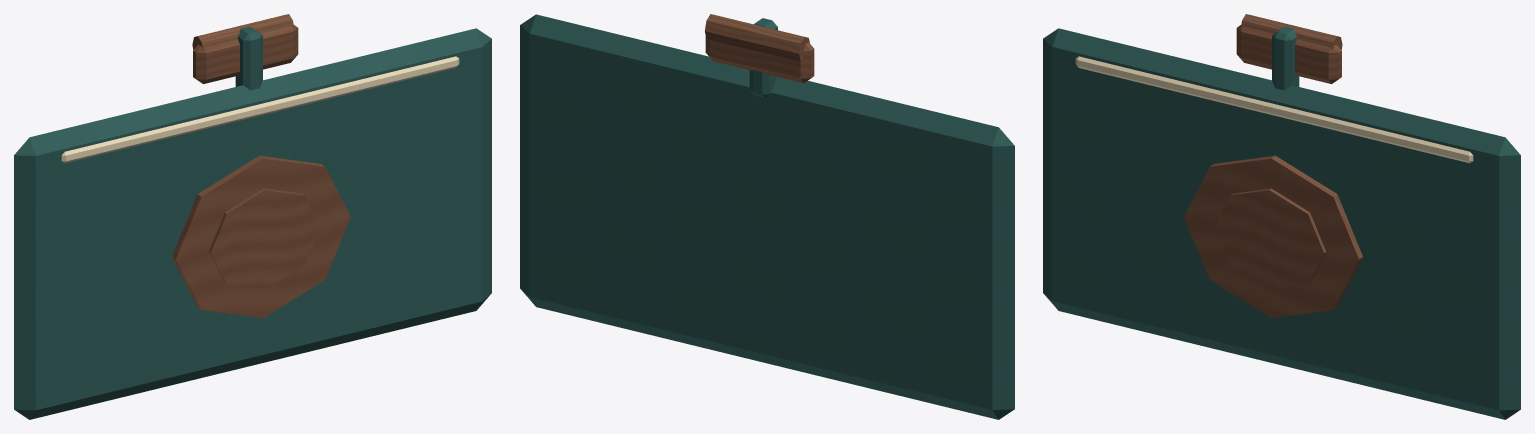
The model's file is I01_atlas_v1.glb.
3 views of the same model, side by side, from view 1: azimuth 30°, elevation 25°; view 2: azimuth 150°, elevation 25°; view 3: azimuth 330°, elevation 25° (orthographic). The views are drawn at different scales.
Visible parts, largest first — view 1: I01_SwingingSign, I01_FixedMount; view 2: I01_SwingingSign, I01_FixedMount; view 3: I01_SwingingSign, I01_FixedMount.
Boxes of the visible parts, box(x1,y1,x2,y2) form: I01_SwingingSign: box(14, 28, 491, 419); I01_FixedMount: box(192, 14, 298, 90); I01_SwingingSign: box(520, 14, 1014, 419); I01_FixedMount: box(705, 14, 814, 97); I01_SwingingSign: box(1043, 28, 1520, 419); I01_FixedMount: box(1236, 14, 1342, 90).
Size of the model in its own units: 3 by 2 by 0.3.
1 material, 1 textured.
